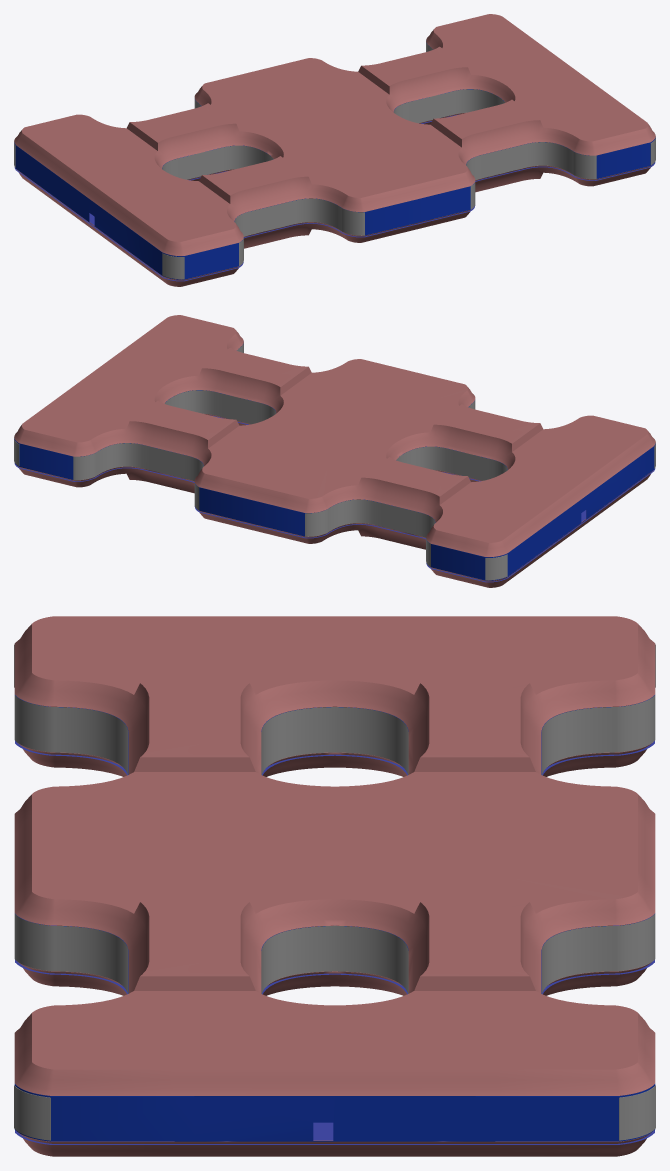
File: 2EYE Oval.FBX
The picture shows the model from 3 angles, top to bottom: view 1: azimuth 30°, elevation 25°; view 2: azimuth 150°, elevation 25°; view 3: azimuth 270°, elevation 25°; orthographic projection. The views are drawn at different scales.
Visible parts, largest first — view 1: Plane091, Floor; view 2: Plane091, Floor; view 3: Plane091, Floor.
Boxes of the visible parts, left/top/right/bottom form: Plane091: left=14, top=14, right=655, bottom=286; Floor: left=14, top=114, right=655, bottom=281; Plane091: left=14, top=315, right=655, bottom=587; Floor: left=14, top=415, right=655, bottom=582; Plane091: left=14, top=616, right=655, bottom=1156; Floor: left=15, top=741, right=654, bottom=1144.
Bounding box in the file's own units: 218 × 24.8 × 127.
